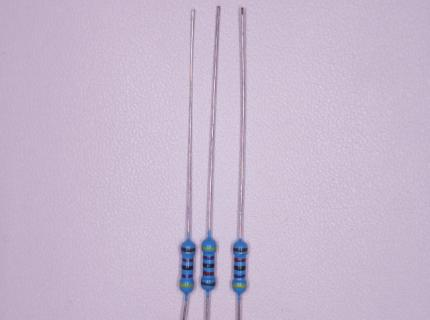Black band: (203, 263, 215, 268), (181, 265, 193, 270), (182, 273, 193, 278)
Brown band: (200, 281, 215, 287), (181, 247, 195, 253), (233, 248, 248, 252), (234, 266, 246, 270)
Red band: (182, 258, 194, 263), (234, 257, 246, 262), (203, 271, 214, 276)
Violet band: (233, 274, 245, 278), (203, 256, 214, 260)
Yellow band: (201, 246, 216, 251), (179, 283, 194, 288), (232, 283, 247, 288)
